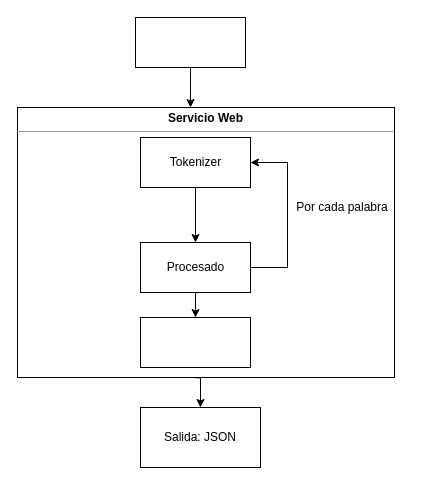
Some shapes in this 435 by 485 pixel diagram are drawn without their labels. The shapes that lost their labels are listed below. From the top down, each one's centre as x and y in pixels, then its label:
At pixel 190 42: "Entrada : Array de palabras".
At pixel 195 342: "Creación de la respuesta".
